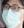with_mask: (2, 1, 24, 28)
